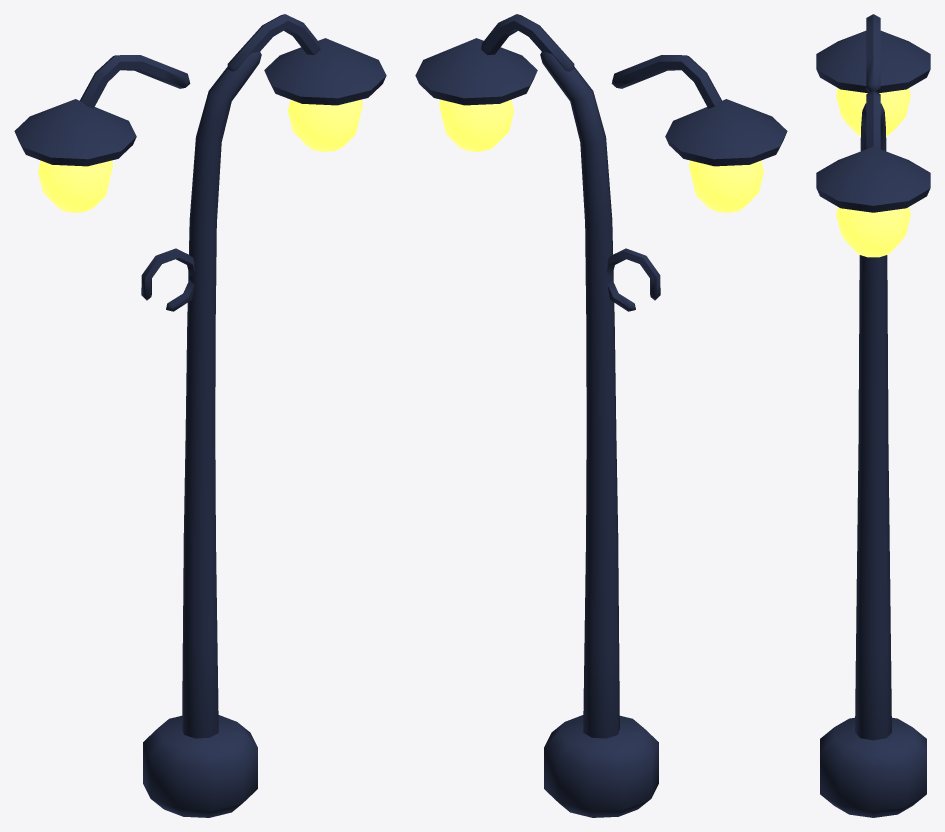
File: W1_Lamp_A.fbx
The picture shows the model from 3 angles, left to right: view 1: azimuth 30°, elevation 25°; view 2: azimuth 150°, elevation 25°; view 3: azimuth 270°, elevation 25°; orthographic projection. The views are drawn at different scales.
Parts seen in each view (by area): view 1: W1_Lamp_A; view 2: W1_Lamp_A; view 3: W1_Lamp_A.
Boxes of the visible parts, x1,y1,x2,y2 form: W1_Lamp_A: (14, 14, 386, 817); W1_Lamp_A: (415, 14, 787, 817); W1_Lamp_A: (816, 14, 930, 817).
Bounding box in the file's own units: 2.14 × 4.39 × 0.6087.
